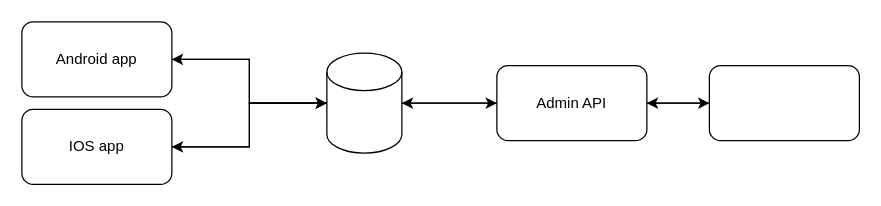
Some shapes in this 881 by 206 pixel diagram are drawn without their labels. The centre of each missing label's shape, as x and y in pixels:
"Admin Blazor Web Client" belongs at pixel 783 102.
"Firestore DB" belongs at pixel 364 102.
